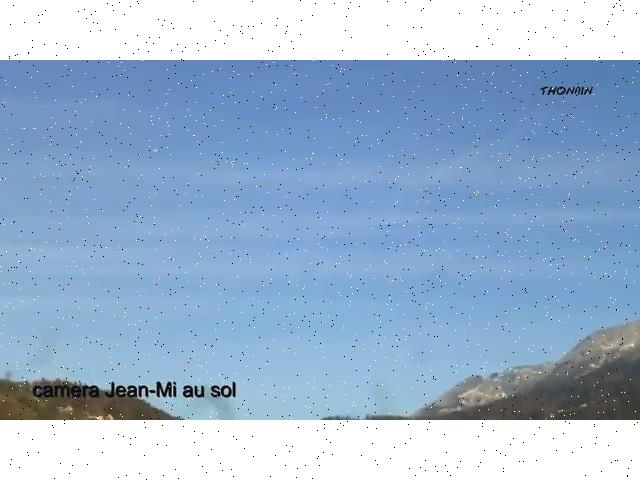Anti-Drone: (413, 181, 437, 202), (149, 145, 167, 159)
